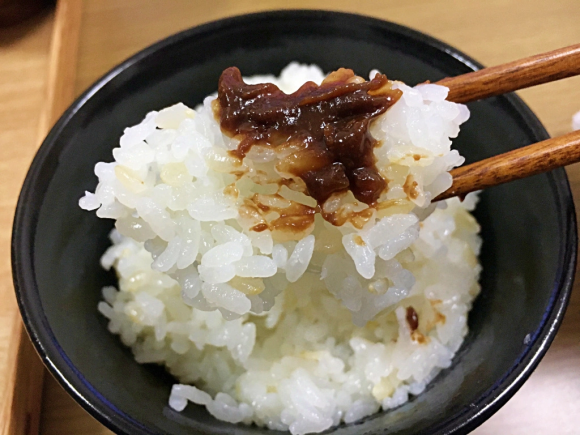plain rice: (106, 79, 470, 417)
